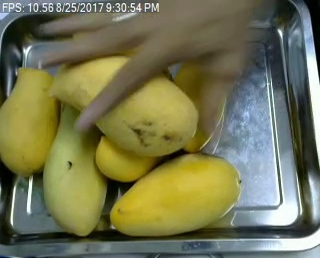Mango: (50, 53, 199, 155), (108, 151, 240, 235), (42, 97, 106, 235), (0, 66, 62, 175), (94, 135, 162, 181)
